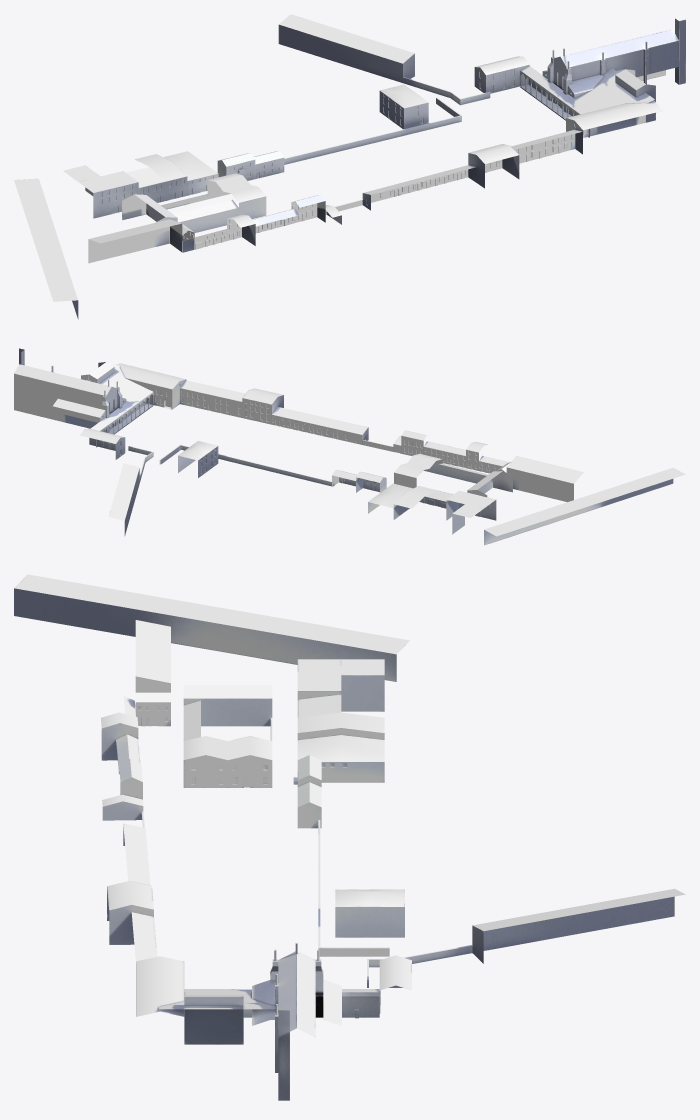
Rendered from Edifici cucinati.glb.
3 views of the same model, one above another, from view 1: azimuth 30°, elevation 25°; view 2: azimuth 150°, elevation 25°; view 3: azimuth 270°, elevation 25° (orthographic). The views are drawn at different scales.
Parts seen in each view (by area): view 1: Contesto; view 2: Contesto; view 3: Contesto.
Part boxes in pixels (x1,y1,x2,y2): Contesto: (14,14,685,319); Contesto: (14,348,685,545); Contesto: (14,574,685,1100).
Size of the model in its own units: 310 by 26.18 by 176.
Materials: 1 (1 with a texture image).
